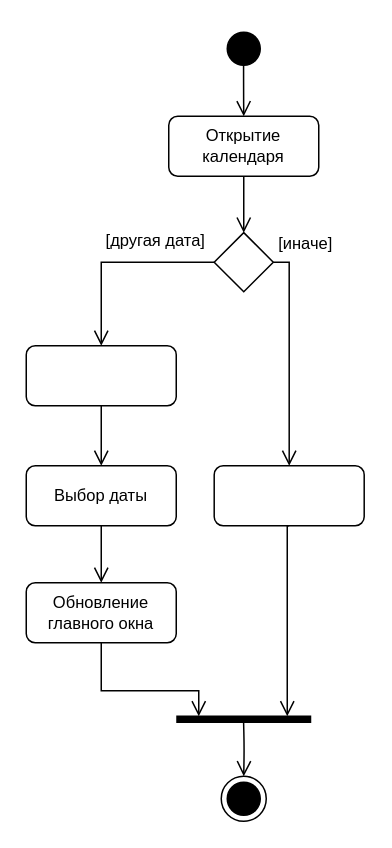
Some shapes in this 392 by 848 pixel diagram are drawn without their labels. The shapes that lost their labels are listed below. From the top down, each one's centre as x and y in pixels, then its label:
point 100,375: Поиск нужной даты
point 288,495: Возврат к главному окну без изменений
